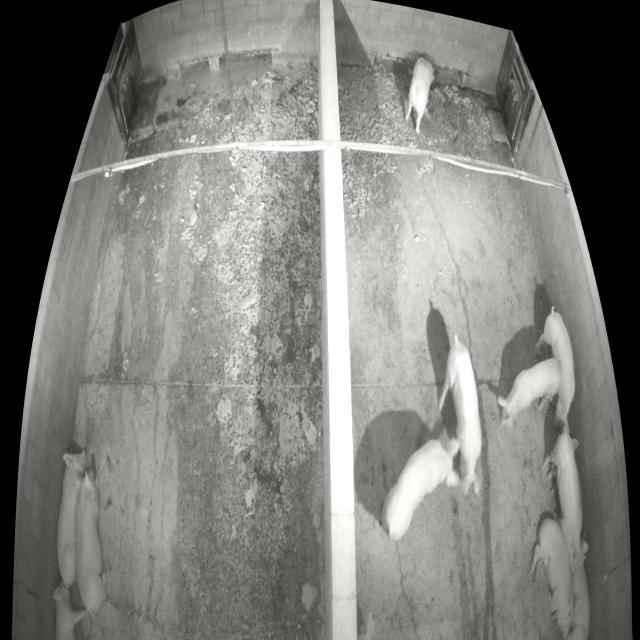pig: (380, 437, 462, 540), (439, 342, 483, 497), (543, 431, 589, 574), (530, 519, 582, 637), (497, 357, 560, 434), (534, 311, 575, 428), (75, 466, 107, 614), (56, 449, 88, 588), (405, 58, 434, 135), (52, 579, 87, 637), (566, 565, 592, 639)
